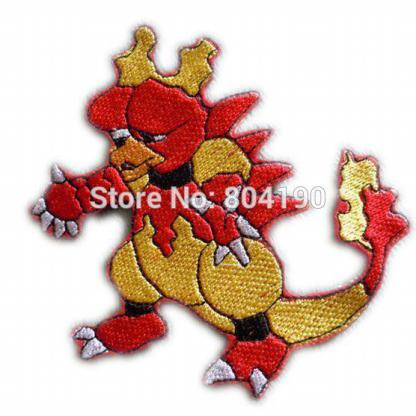Magmar: (17, 7, 353, 393)
